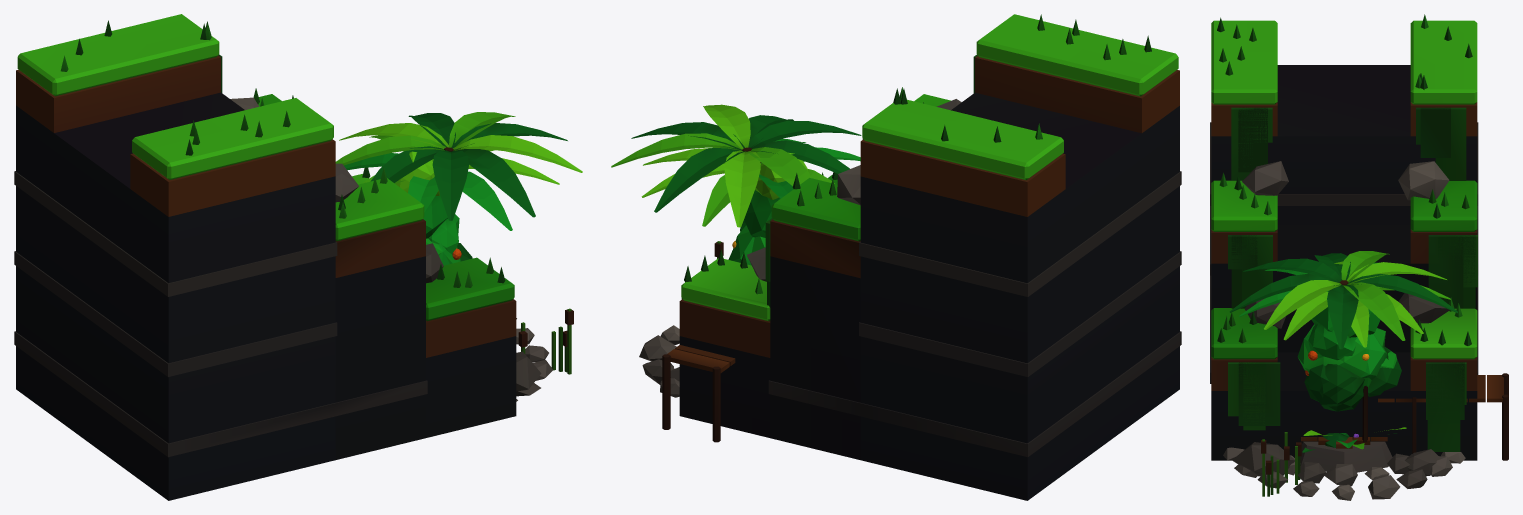
Rendered from studio_kit.glb.
3 views of the same model, side by side, from view 1: azimuth 30°, elevation 25°; view 2: azimuth 150°, elevation 25°; view 3: azimuth 270°, elevation 25° (orthographic). The views are drawn at different scales.
Parts seen in each view (by area): view 1: Cliff_Rock, PalmB_Crown, PalmA_Crown, TreeTall_Crown, PoolRim_Stones; view 2: Cliff_Rock, PalmB_Crown, Dock_Planks, PalmA_Crown, PoolRim_Stones, TreeTall_Crown; view 3: Cliff_Rock, PalmB_Crown, PoolRim_Stones, Platform_Base, TreeFruit_Crown, TreeRound_Crown, PalmA_Crown, PondRim_Stones, Dock_Planks, TreeTall_Crown.
Part boxes in pixels (x1,y1,x2,y2): Cliff_Rock: (14, 14, 541, 500); PalmB_Crown: (335, 112, 582, 220); PalmA_Crown: (344, 135, 559, 230); TreeTall_Crown: (396, 151, 459, 254); PoolRim_Stones: (516, 308, 573, 401); Cliff_Rock: (670, 14, 1181, 500); PalmB_Crown: (611, 104, 861, 227); Dock_Planks: (662, 345, 735, 442); PalmA_Crown: (641, 139, 860, 226); PoolRim_Stones: (639, 241, 723, 397); TreeTall_Crown: (740, 152, 807, 237); Cliff_Rock: (1210, 14, 1478, 476); PalmB_Crown: (1229, 251, 1457, 349); PoolRim_Stones: (1223, 439, 1465, 500); Platform_Base: (1300, 354, 1392, 472); TreeFruit_Crown: (1297, 334, 1401, 411); TreeRound_Crown: (1302, 324, 1396, 411); PalmA_Crown: (1239, 262, 1450, 347); PondRim_Stones: (1284, 432, 1409, 486); Dock_Planks: (1378, 373, 1508, 460); TreeTall_Crown: (1308, 261, 1380, 360).
Bounding box in the file's own units: 6.84 × 4.97 × 4.26.
